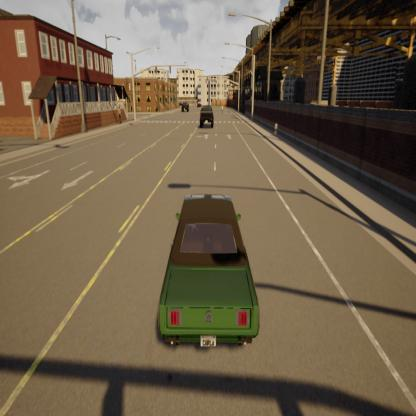Cars: (153, 184, 271, 363), (198, 99, 217, 130)
Pedestrian: (273, 119, 280, 138), (181, 100, 190, 113)
